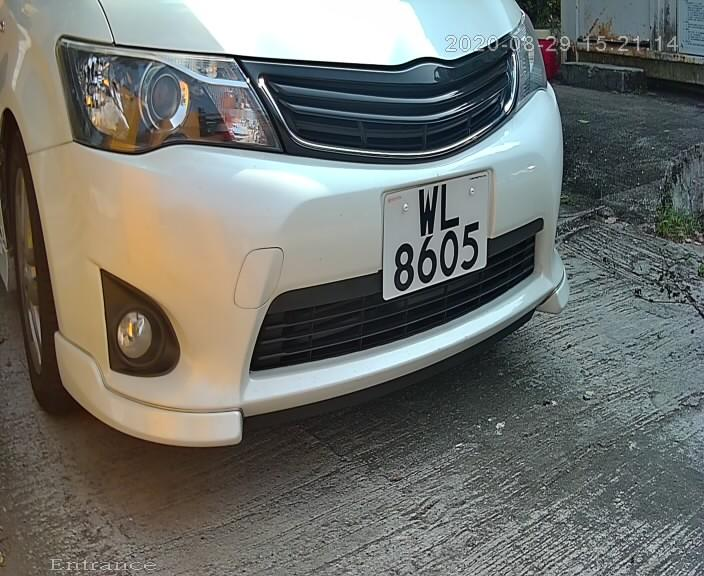License Plate: (354, 141, 507, 328)
